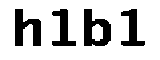1: (118, 8, 149, 52), (48, 6, 78, 50)
b: (81, 6, 116, 51)
h: (10, 4, 45, 50)
